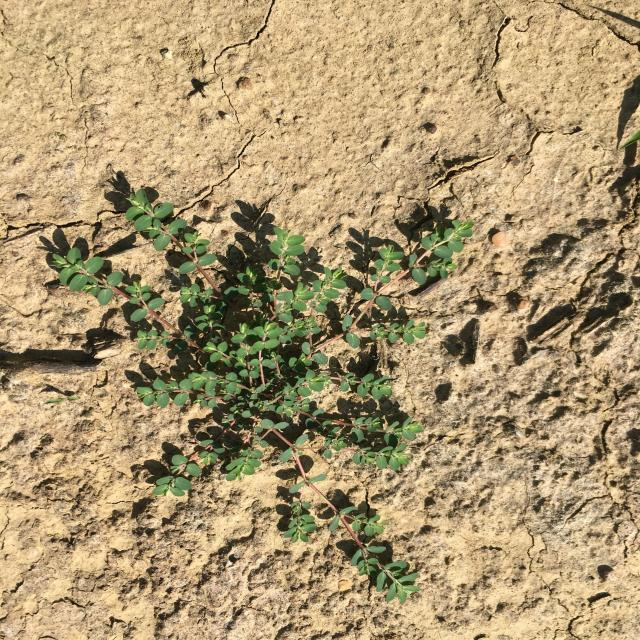SpottedSpurge: (52, 186, 475, 604)
